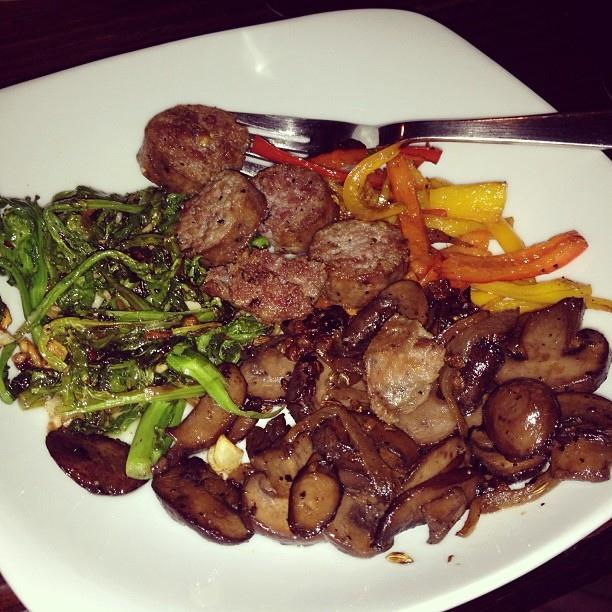bell pepper: (430, 178, 536, 283), (434, 230, 590, 282), (342, 138, 411, 222), (386, 154, 431, 281), (252, 136, 350, 183), (430, 181, 507, 223), (310, 146, 444, 168), (468, 276, 586, 296), (425, 216, 514, 236), (488, 299, 552, 315), (456, 230, 494, 250), (438, 245, 492, 257), (586, 295, 611, 313)
mushroom: (494, 298, 612, 393), (150, 441, 255, 544), (236, 431, 328, 548), (371, 468, 487, 551), (362, 312, 446, 422), (330, 280, 429, 360), (164, 362, 248, 450), (44, 428, 150, 496), (482, 376, 560, 462), (444, 307, 520, 369), (322, 493, 394, 557), (287, 462, 345, 538), (394, 379, 457, 448), (400, 435, 466, 495), (326, 443, 387, 505), (470, 440, 552, 485), (354, 415, 421, 468), (548, 426, 610, 482), (240, 347, 297, 400), (420, 487, 468, 544), (225, 396, 274, 444), (459, 336, 505, 387), (314, 330, 366, 374), (556, 389, 612, 428), (246, 414, 292, 460), (464, 393, 490, 429)
